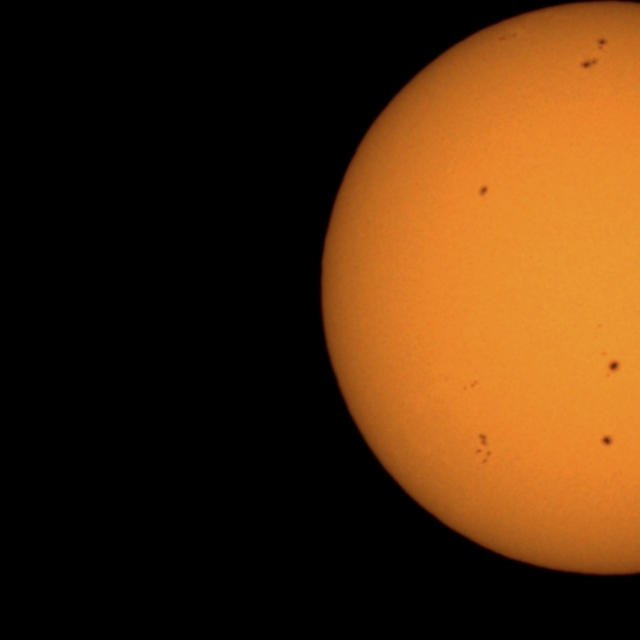sunspot: (581, 37, 607, 68), (474, 431, 494, 465), (578, 51, 602, 70), (606, 358, 622, 380), (462, 379, 479, 392), (498, 32, 518, 42), (600, 434, 614, 448), (477, 184, 490, 198), (596, 37, 608, 51), (596, 322, 604, 330)
